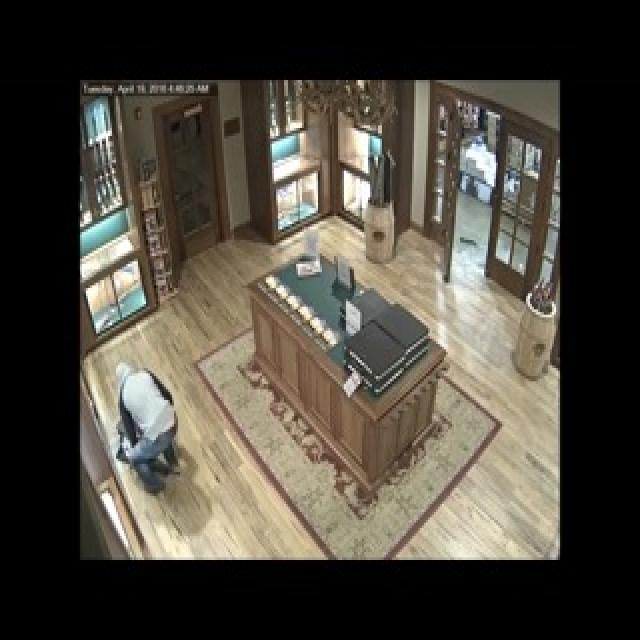thief: (98, 328, 184, 490)
